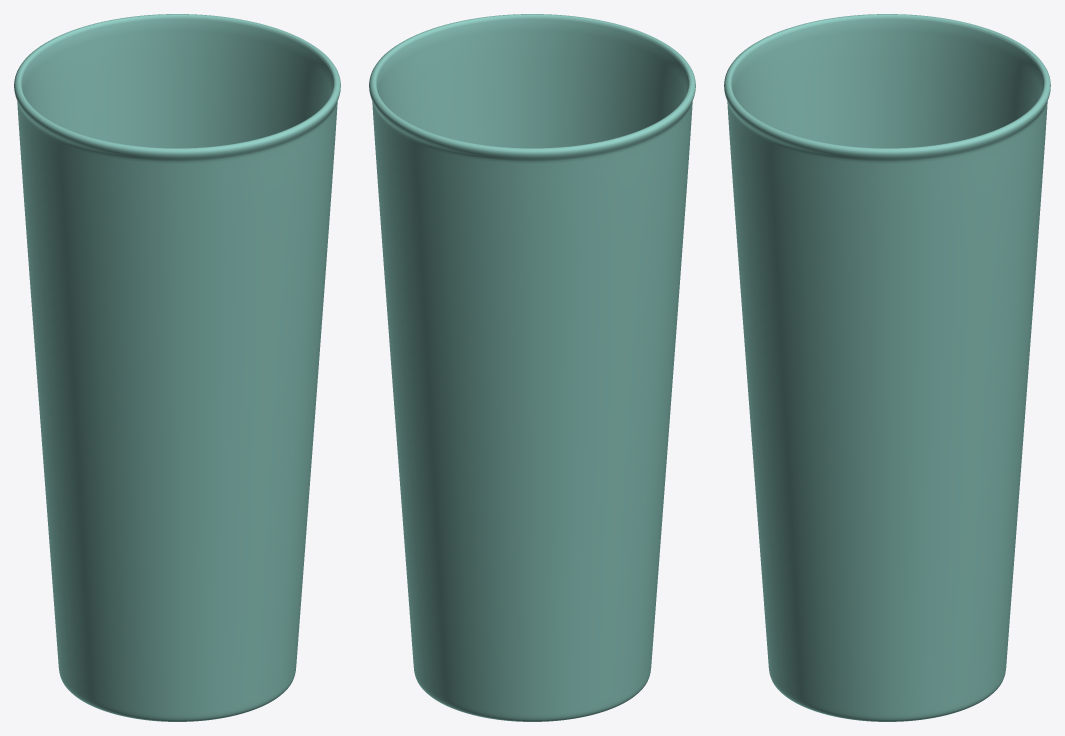
The picture shows the model from 3 angles, left to right: view 1: azimuth 30°, elevation 25°; view 2: azimuth 150°, elevation 25°; view 3: azimuth 270°, elevation 25°; orthographic projection.
Visible parts, largest first — view 1: American_Pint_Glass_Cylinder; view 2: American_Pint_Glass_Cylinder; view 3: American_Pint_Glass_Cylinder.
Boxes of the visible parts, <box> form: American_Pint_Glass_Cylinder: <box>14,14,340,721</box>; American_Pint_Glass_Cylinder: <box>369,14,695,721</box>; American_Pint_Glass_Cylinder: <box>724,14,1050,721</box>.
Bounding box in the file's own units: 0.3 × 0.6 × 0.3.
